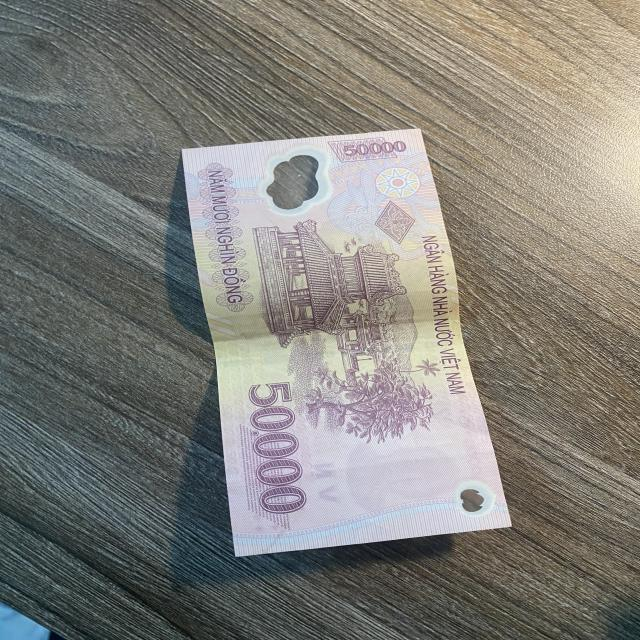50 000 VND: (177, 128, 514, 558)
